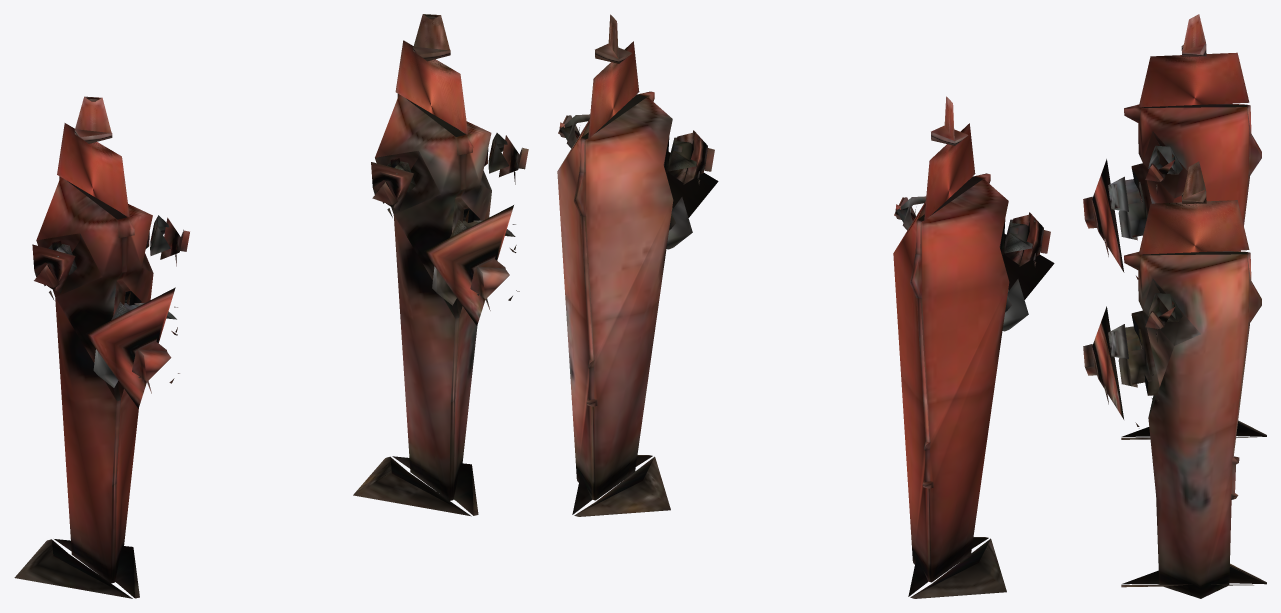
File: fire_hydrant.glb
3 renders of one model, left to right at view 1: azimuth 30°, elevation 25°; view 2: azimuth 150°, elevation 25°; view 3: azimuth 270°, elevation 25°, orthographic. The views are drawn at different scales.
Parts seen in each view (by area): view 1: fire_hydrant_aged, fire_hydrant, fire_hydrant_cap_01_aged, fire_hydrant_cap_01, fire_hydrant_cap_03_aged, fire_hydrant_cap_03; view 2: fire_hydrant, fire_hydrant_aged, fire_hydrant_cap_01_aged, fire_hydrant_cap_01, fire_hydrant_cap_03_aged, fire_hydrant_cap_03; view 3: fire_hydrant_aged, fire_hydrant, fire_hydrant_cap_01, fire_hydrant_cap_01_aged, fire_hydrant_cap_02_aged, fire_hydrant_cap_02.
Part boxes in pixels (<box>): fire_hydrant_aged: <box>353,14,515,516</box>; fire_hydrant: <box>14,96,176,598</box>; fire_hydrant_cap_01_aged: <box>424,205,513,325</box>; fire_hydrant_cap_01: <box>86,287,175,408</box>; fire_hydrant_cap_03_aged: <box>371,162,413,210</box>; fire_hydrant_cap_03: <box>32,244,75,293</box>; fire_hydrant: <box>893,96,1035,598</box>; fire_hydrant_aged: <box>557,14,699,516</box>; fire_hydrant_cap_01_aged: <box>666,152,718,217</box>; fire_hydrant_cap_01: <box>1002,234,1054,299</box>; fire_hydrant_cap_03_aged: <box>683,130,714,184</box>; fire_hydrant_cap_03: <box>1019,212,1050,266</box>; fire_hydrant_aged: <box>1108,161,1266,598</box>; fire_hydrant: <box>1108,14,1266,439</box>; fire_hydrant_cap_01: <box>1083,159,1124,272</box>; fire_hydrant_cap_01_aged: <box>1083,306,1123,419</box>; fire_hydrant_cap_02_aged: <box>1145,306,1175,329</box>; fire_hydrant_cap_02: <box>1145,159,1175,182</box>.
Bounding box in the file's own units: 0.8729 × 0.7992 × 0.3164.
2 materials, 2 textured.
